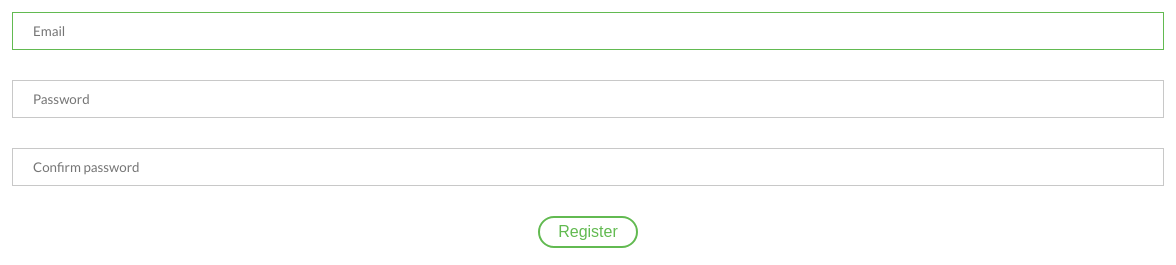
Test: <Register Form /> › shows error when submit empty data
Click the button "Register" at (588, 232), box [538,216,638,248]
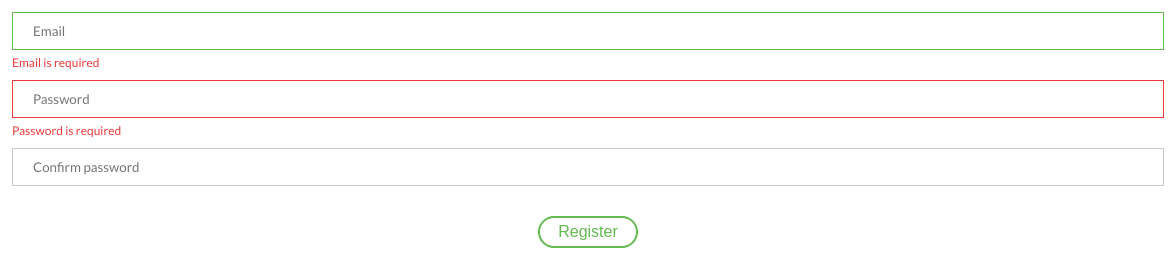
Expected: the text "Email is required" is shown, [12,55,99,70]
Expected: the text "Password is required" is shown, [12,123,121,138]
